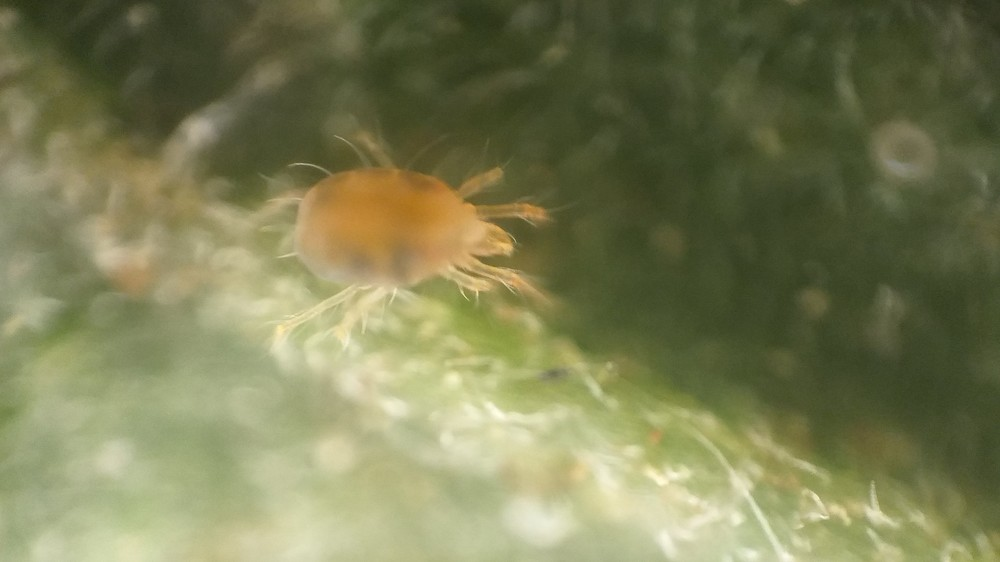Aracnido Rojo: (250, 119, 583, 358)
